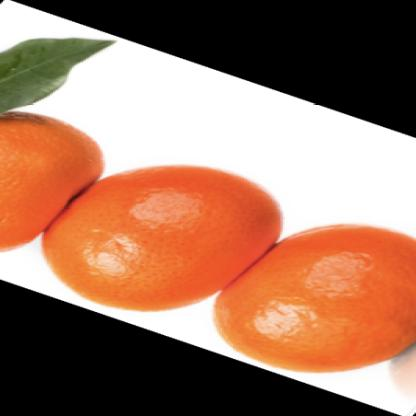fresh: (1, 109, 410, 376)
